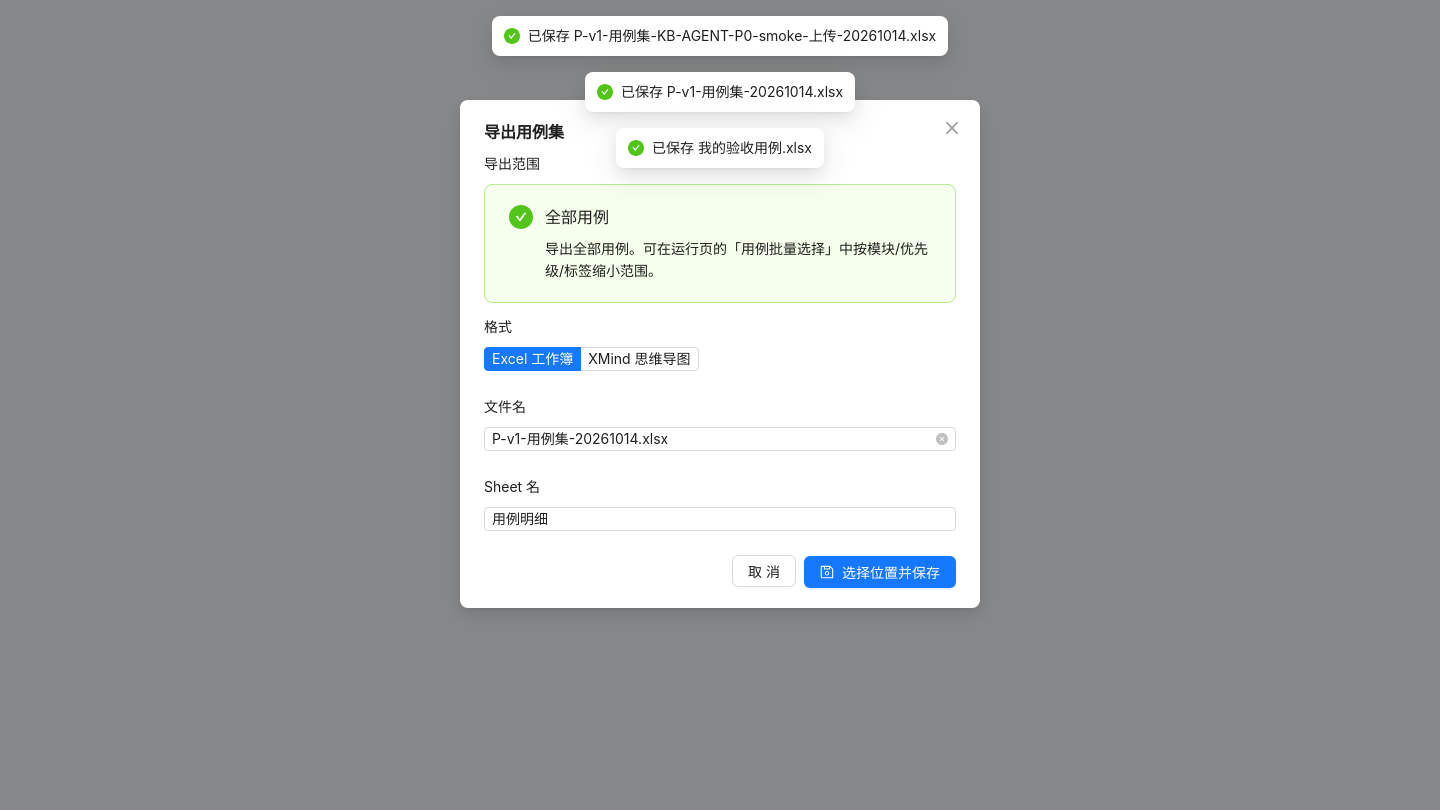
Test: 导出流程 › 用户只写主名时自动补扩展名
Type "report" into the field with placeholder "P-v1-用例集-20261014.xlsx" below "文件名" at (712, 439), box left=492, top=428, right=932, bottom=450
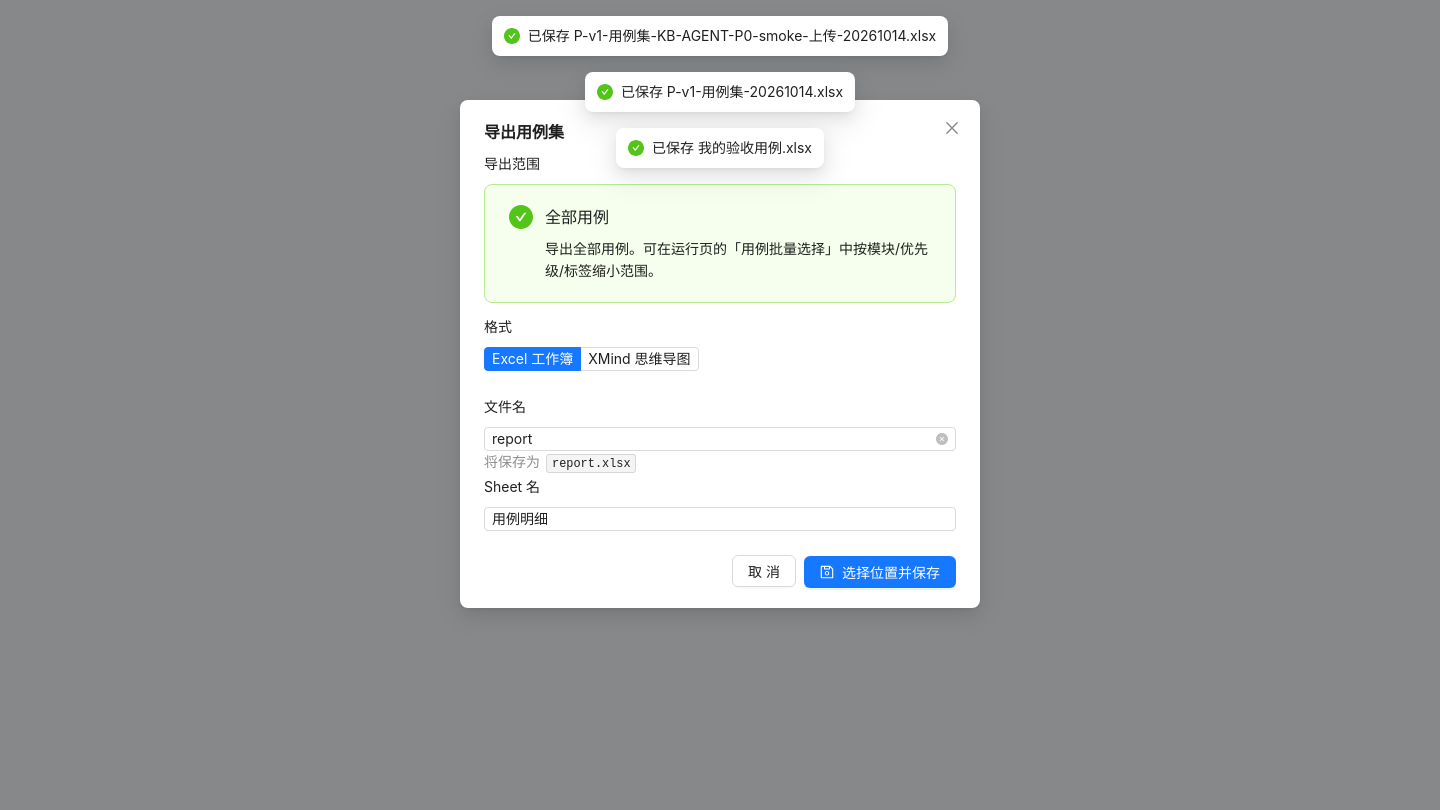
Now the text "report.xlsx" is shown, box left=546, top=454, right=636, bottom=473
